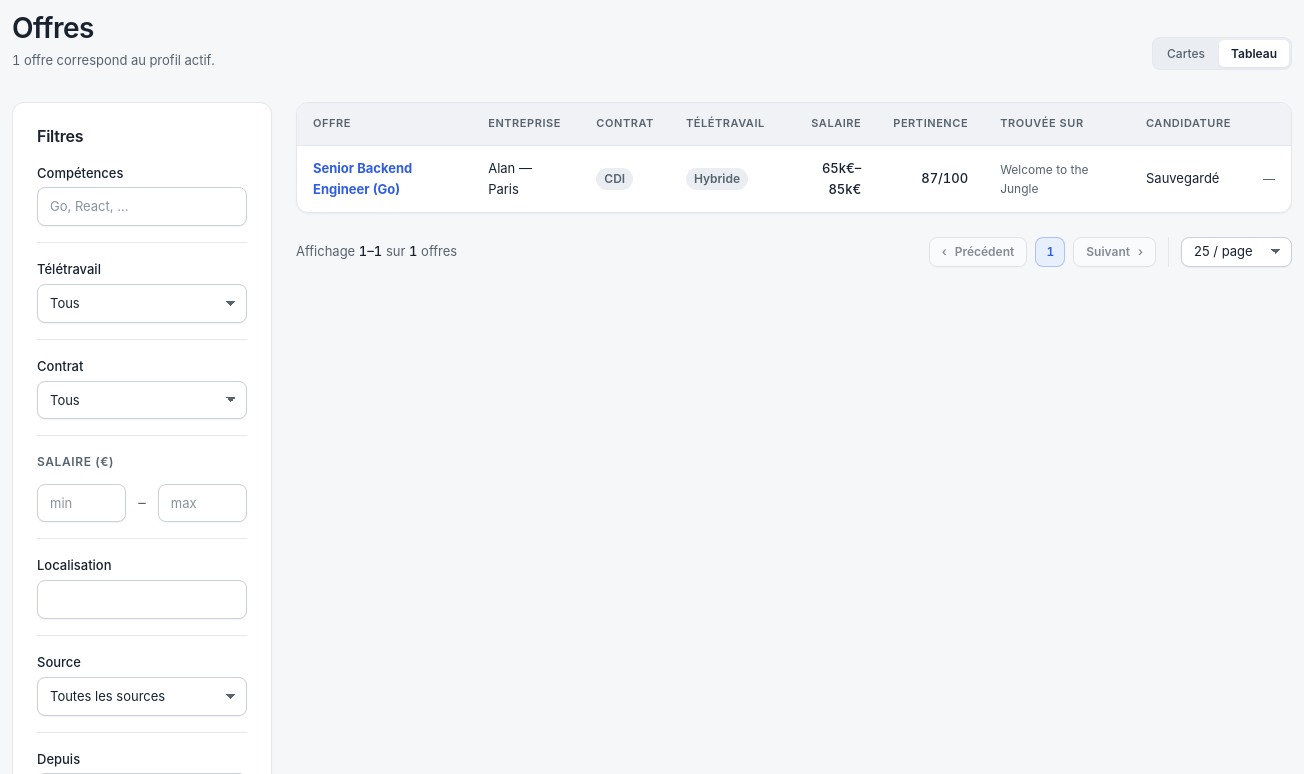
JobsPage › renders the title as a detail link and shows "Lien indisponible" when the posting URL is empty
Check: the link "Senior Backend Engineer (Go)" is shown, box [313,160,412,197]
Note: "Lien indisponible" is card-view markup — switch from the default table view.
Click the button "Cartes" at (1186, 54), box [1155,40,1217,67]
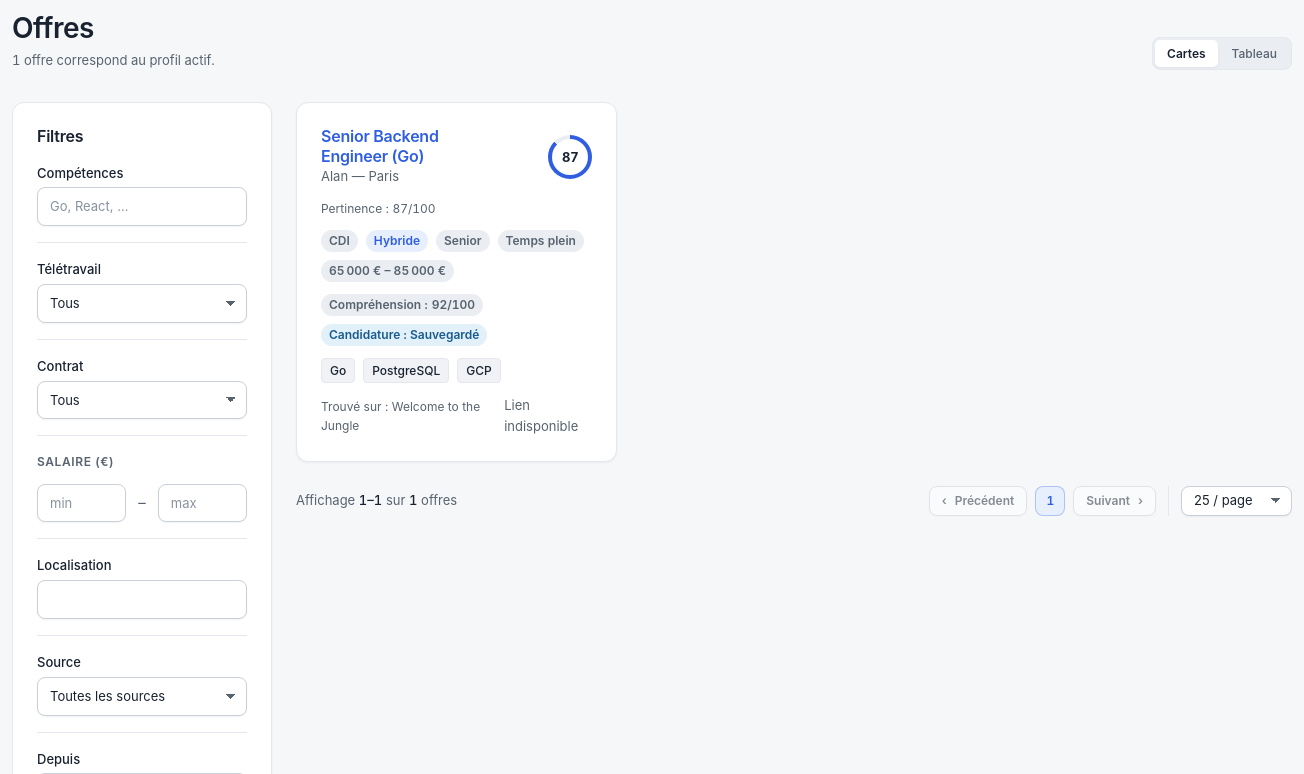
Check: the text "Lien indisponible" is shown, box [504,397,578,434]
